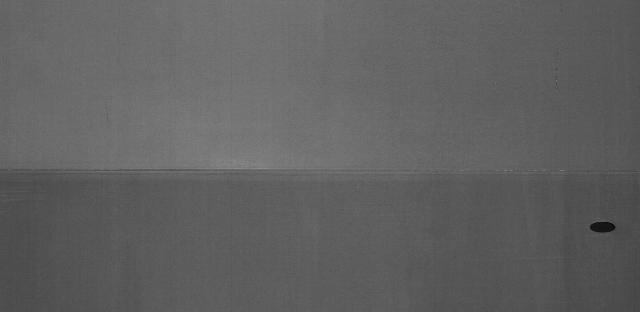punching_hole: (582, 217, 622, 240)
welding_line: (5, 158, 640, 187)
